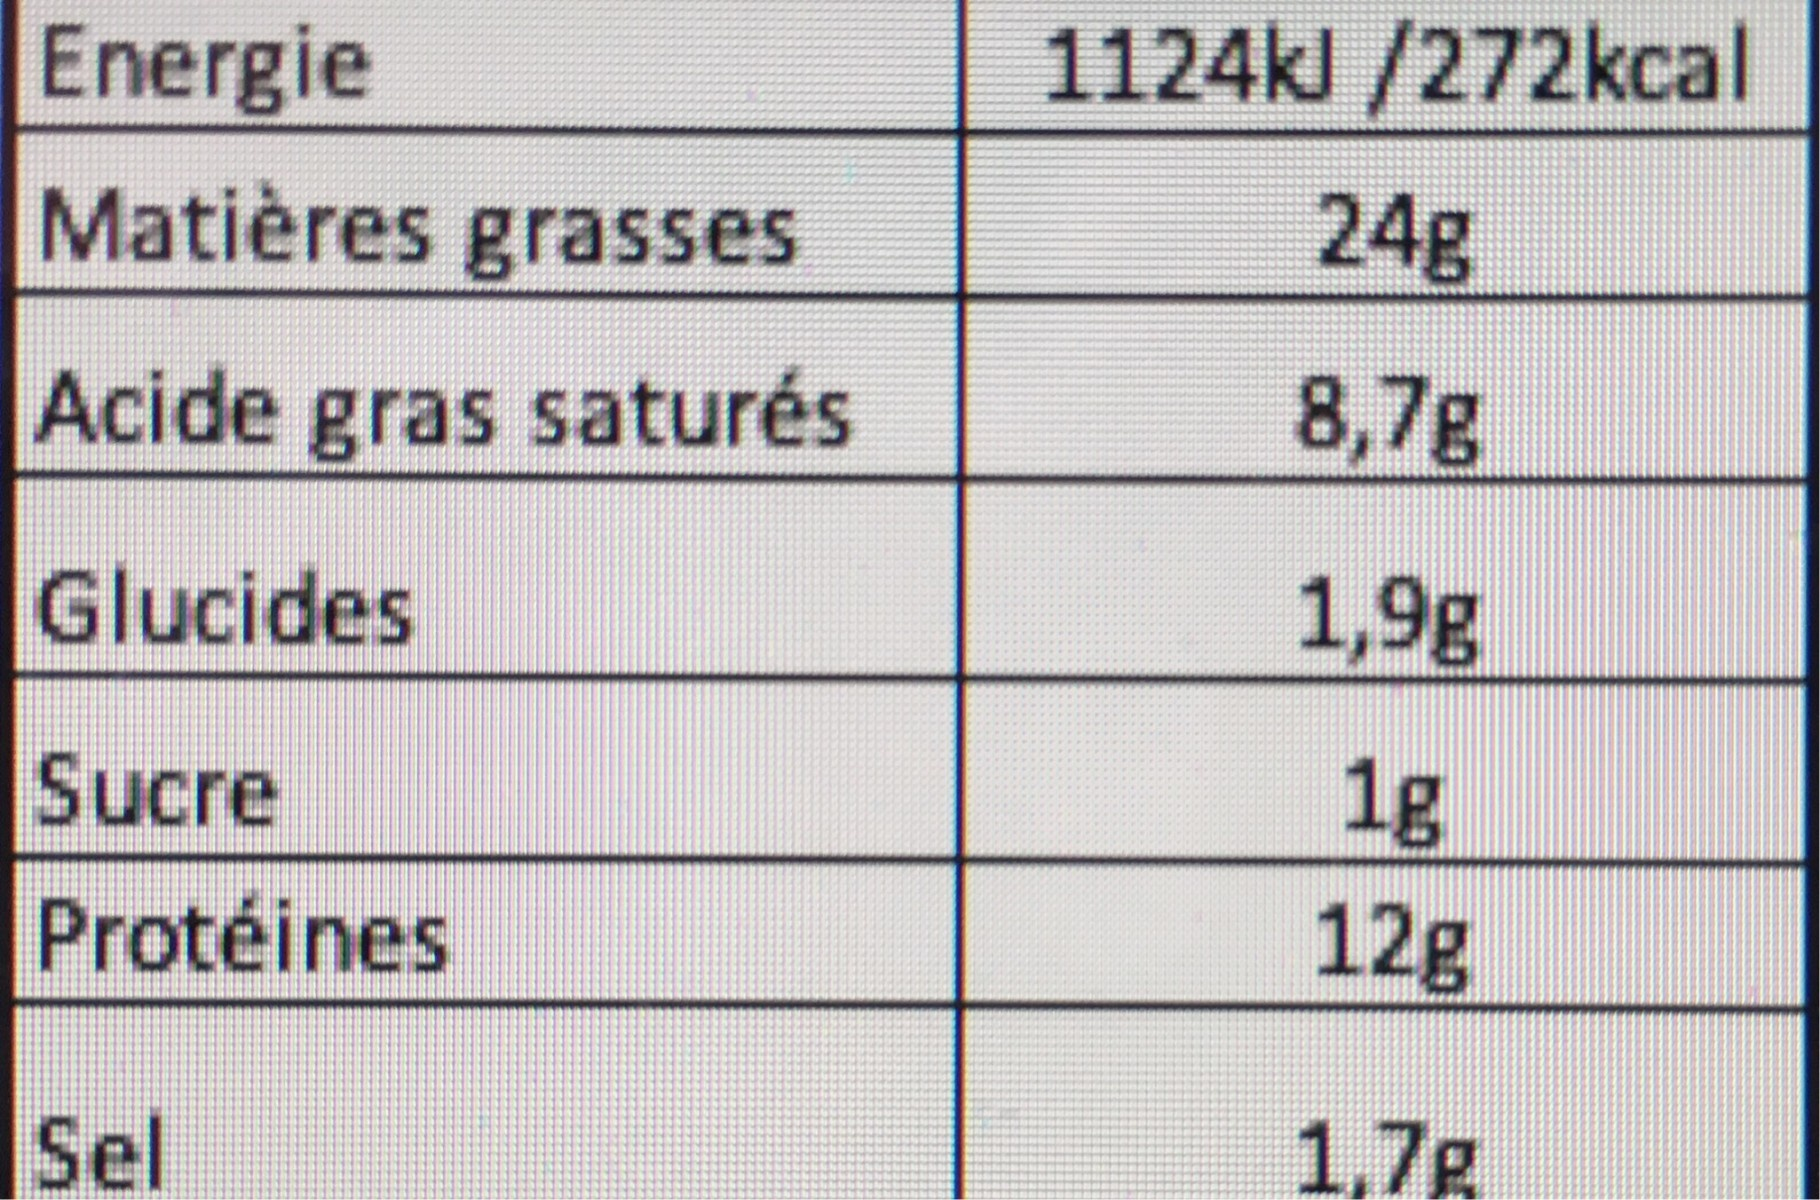column: (11, 9, 904, 1199), (999, 3, 1803, 1200)
table: (9, 7, 1803, 1200)
